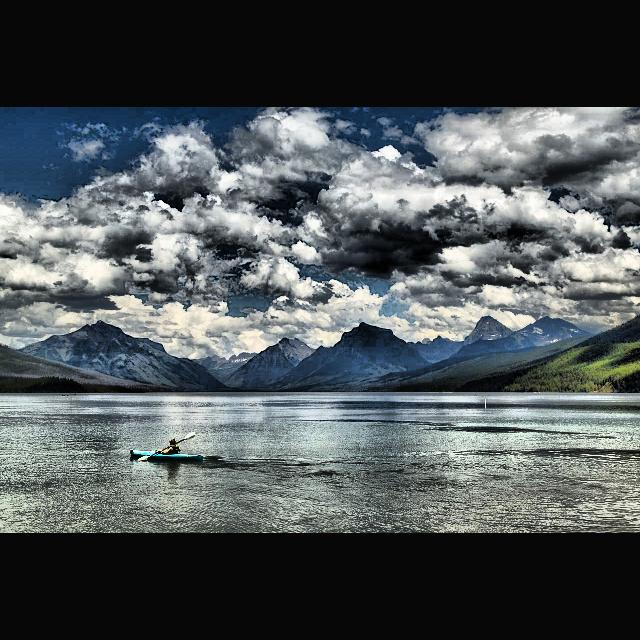kayak: (130, 448, 204, 464)
